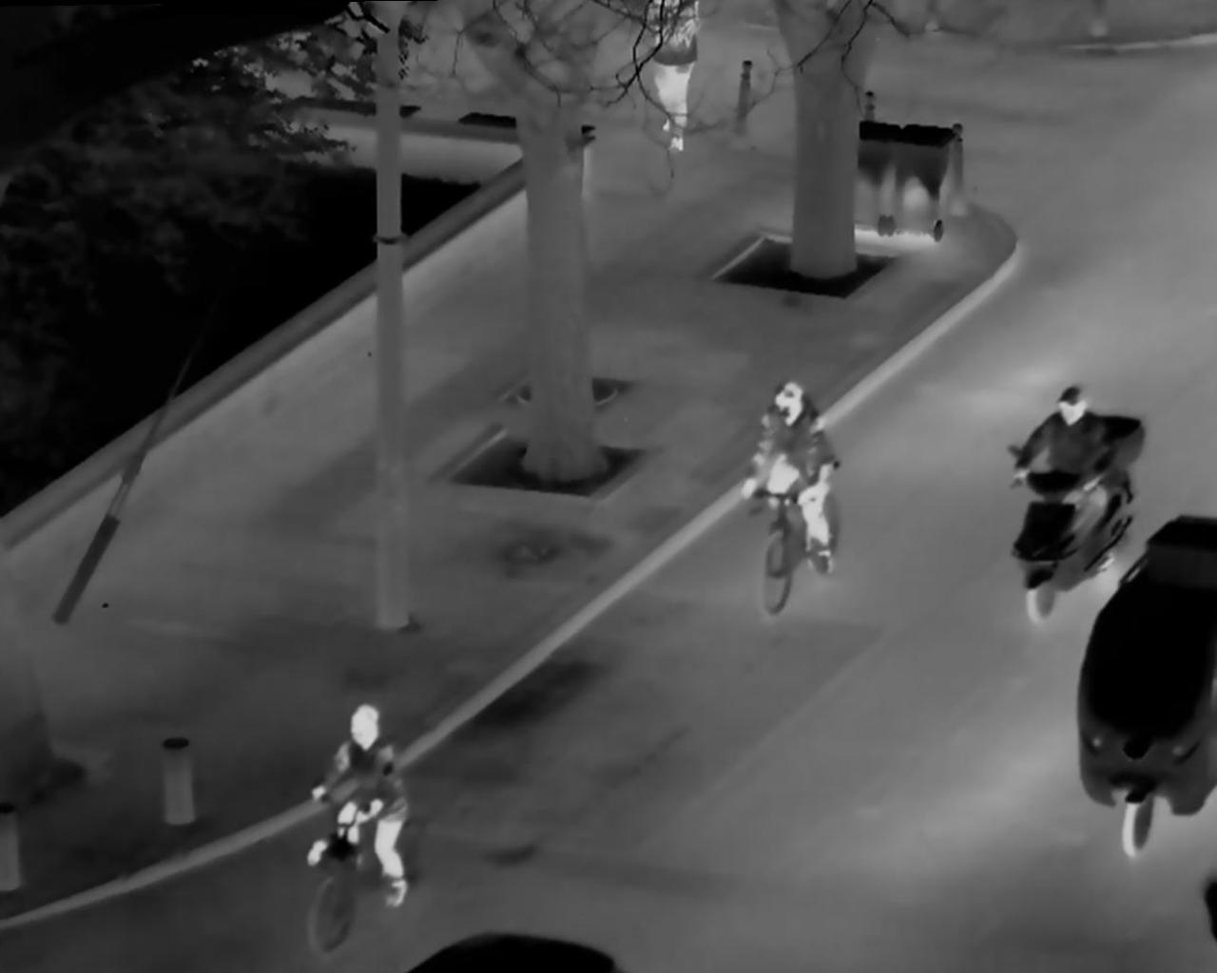person: (740, 374, 846, 616), (305, 694, 417, 916), (1011, 371, 1123, 575), (627, 2, 713, 160)
